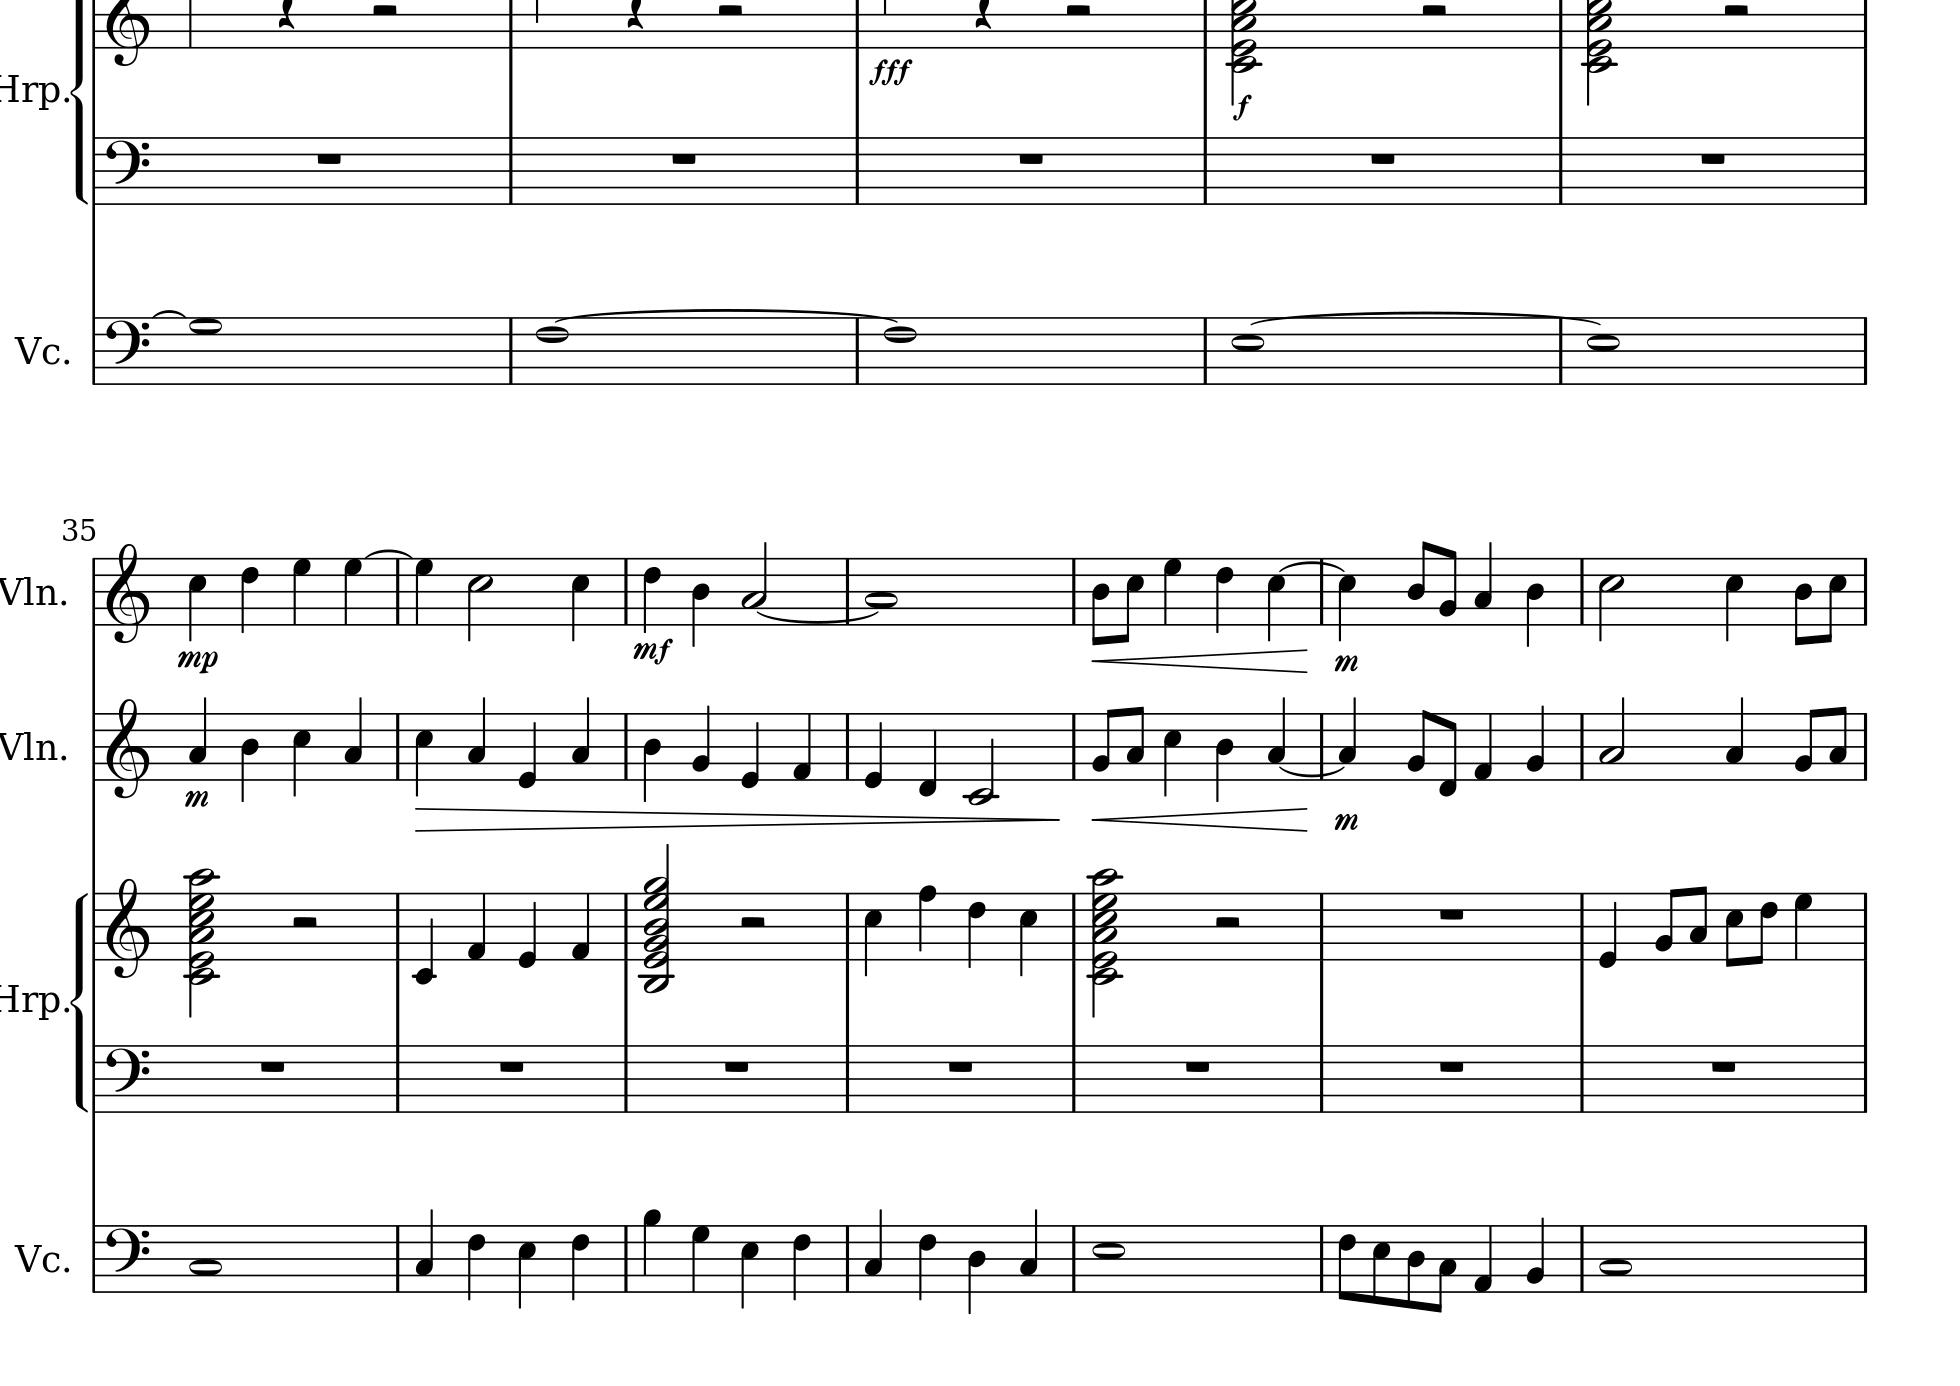1_3: (187, 1222, 223, 1294), (1599, 1222, 1633, 1294), (864, 555, 898, 625)
1_5: (1230, 315, 1266, 385), (1585, 315, 1620, 387), (1092, 1222, 1126, 1294)
1_6: (534, 315, 570, 385), (883, 315, 918, 385)
1_7: (187, 313, 223, 385)
2_-2: (964, 711, 997, 805)
2_3: (739, 538, 769, 625), (1596, 696, 1626, 780)
2_5: (465, 556, 493, 643), (1596, 556, 1624, 642)
3: (60, 516, 78, 543)
4_-1: (915, 709, 939, 798)
4_-2: (411, 889, 436, 985)
4_0: (738, 709, 762, 790), (861, 709, 885, 790), (516, 889, 538, 970), (516, 711, 538, 790), (1597, 889, 1620, 967)
4_1: (789, 709, 813, 781), (463, 889, 487, 961), (568, 889, 592, 961), (1471, 1222, 1494, 1293)
4_2: (1524, 1213, 1548, 1294), (688, 702, 712, 781), (1524, 703, 1546, 781)
4_3: (412, 1207, 436, 1293), (570, 694, 592, 781), (342, 694, 364, 780), (1338, 694, 1359, 781), (1725, 694, 1746, 781), (466, 694, 487, 780), (1266, 694, 1287, 780), (862, 1207, 883, 1293), (1473, 541, 1494, 625), (187, 694, 208, 778), (1018, 1207, 1039, 1291)
4_4: (690, 555, 712, 648), (640, 709, 663, 802), (1213, 711, 1236, 802), (966, 1222, 988, 1314), (238, 711, 259, 802), (1524, 556, 1545, 646)
4_5: (568, 555, 591, 643), (1336, 555, 1359, 643), (186, 555, 208, 642), (862, 889, 883, 979), (291, 709, 312, 798), (412, 709, 433, 798), (1161, 709, 1182, 798), (1266, 556, 1287, 643), (1723, 556, 1744, 643), (516, 1222, 537, 1309), (739, 1222, 760, 1309), (1018, 889, 1038, 981)
4_6: (465, 1222, 487, 1303), (238, 555, 261, 634), (568, 1222, 591, 1302), (1213, 555, 1234, 636), (966, 889, 987, 970), (640, 555, 661, 634), (790, 1222, 811, 1302), (916, 1222, 937, 1302)
4_7: (289, 556, 313, 627), (340, 556, 364, 627), (688, 1222, 712, 1293), (1161, 556, 1183, 627), (412, 556, 433, 627), (1792, 891, 1813, 961)
4_8: (916, 883, 939, 961)
4_9: (640, 1207, 663, 1293)
5: (79, 514, 97, 543)
8_-1: (1437, 712, 1458, 798)
8_1: (1470, 709, 1495, 781)
8_2: (1089, 706, 1116, 781), (1653, 886, 1680, 961), (1404, 706, 1431, 780), (1792, 706, 1818, 781), (1437, 544, 1458, 627)
8_3: (1434, 1222, 1458, 1314), (1125, 703, 1146, 781), (1827, 703, 1848, 781), (1689, 883, 1708, 963)
8_4: (1405, 538, 1434, 625), (1090, 556, 1111, 646), (1792, 556, 1813, 646), (1405, 1222, 1425, 1311)
8_5: (1119, 555, 1146, 645), (1821, 555, 1848, 643), (1369, 1222, 1392, 1306), (1723, 889, 1744, 969)
8_6: (1752, 891, 1779, 964), (1335, 1222, 1356, 1303)
Brace: (70, 886, 90, 1114)
Crescendo_hairpin: (1092, 805, 1308, 832), (1092, 648, 1309, 673)
Diminuendo_hairpin: (415, 805, 1062, 831)
Fclef: (103, 1042, 151, 1114), (103, 315, 151, 385), (105, 1222, 151, 1294), (103, 135, 151, 195)
Gclef: (103, 541, 151, 646), (103, 696, 151, 801), (105, 874, 150, 979)
Hrp: (1, 69, 61, 111), (1, 979, 58, 1021)
Rests1: (313, 148, 346, 168), (667, 148, 700, 166), (1015, 148, 1047, 166), (1368, 148, 1399, 166), (1698, 148, 1729, 166), (256, 1057, 288, 1075), (721, 1057, 751, 1075), (945, 1057, 976, 1074), (1182, 1057, 1213, 1074), (1437, 906, 1467, 922), (496, 1057, 526, 1074), (1437, 1057, 1467, 1074), (1708, 1057, 1740, 1072)
Rests2: (367, 1, 402, 21), (712, 1, 747, 21), (1062, 1, 1096, 21), (1417, 1, 1452, 21), (1719, 1, 1753, 21), (735, 913, 769, 933), (288, 913, 321, 931), (1212, 913, 1245, 931)
Single_barline: (847, 136, 865, 204), (838, 556, 856, 624), (1197, 316, 1215, 382), (616, 558, 634, 624), (1065, 558, 1083, 624), (388, 712, 406, 778), (616, 712, 634, 778), (838, 892, 856, 958), (1065, 1045, 1083, 1111), (1065, 1225, 1083, 1291), (1857, 556, 1873, 625), (1197, 136, 1213, 204), (1552, 136, 1569, 204), (1857, 136, 1873, 204), (502, 316, 519, 384), (1315, 556, 1332, 624), (390, 892, 406, 960), (1066, 892, 1083, 960), (1857, 1224, 1873, 1291), (502, 138, 519, 204), (1857, 316, 1873, 382), (838, 712, 855, 778), (1314, 712, 1330, 778), (838, 1045, 855, 1111), (1314, 1045, 1330, 1111), (1314, 1225, 1330, 1291), (390, 559, 406, 624), (840, 1225, 856, 1290), (390, 1225, 406, 1290), (618, 1225, 634, 1290), (1857, 1044, 1872, 1114), (849, 319, 865, 382), (85, 556, 100, 625), (87, 712, 102, 780), (87, 316, 102, 382), (1066, 712, 1081, 778), (1575, 712, 1590, 778), (87, 892, 102, 958), (1314, 892, 1329, 958), (1575, 892, 1590, 958), (390, 1045, 405, 1111), (1575, 1045, 1590, 1111), (618, 1045, 633, 1111), (1575, 558, 1590, 622), (1575, 1225, 1590, 1290), (1858, 891, 1872, 961), (1554, 319, 1569, 382), (1858, 712, 1872, 781), (619, 892, 633, 961), (87, 1225, 100, 1291), (88, 138, 102, 202), (1197, 1, 1215, 48), (88, 1045, 100, 1111), (1554, 1, 1570, 48), (1857, 1, 1873, 48)
Slur: (1248, 307, 1608, 327), (550, 306, 901, 322), (756, 610, 877, 622), (1278, 559, 1348, 571), (1278, 765, 1344, 777), (364, 547, 411, 559), (151, 307, 186, 318)
Vln: (1, 570, 58, 612), (1, 726, 58, 766)
f: (1233, 93, 1254, 120)
fff: (867, 55, 916, 88)
m: (1332, 808, 1362, 832)
mf: (630, 636, 673, 669)
mp: (174, 646, 220, 676), (181, 786, 211, 811), (1332, 651, 1362, 673)
